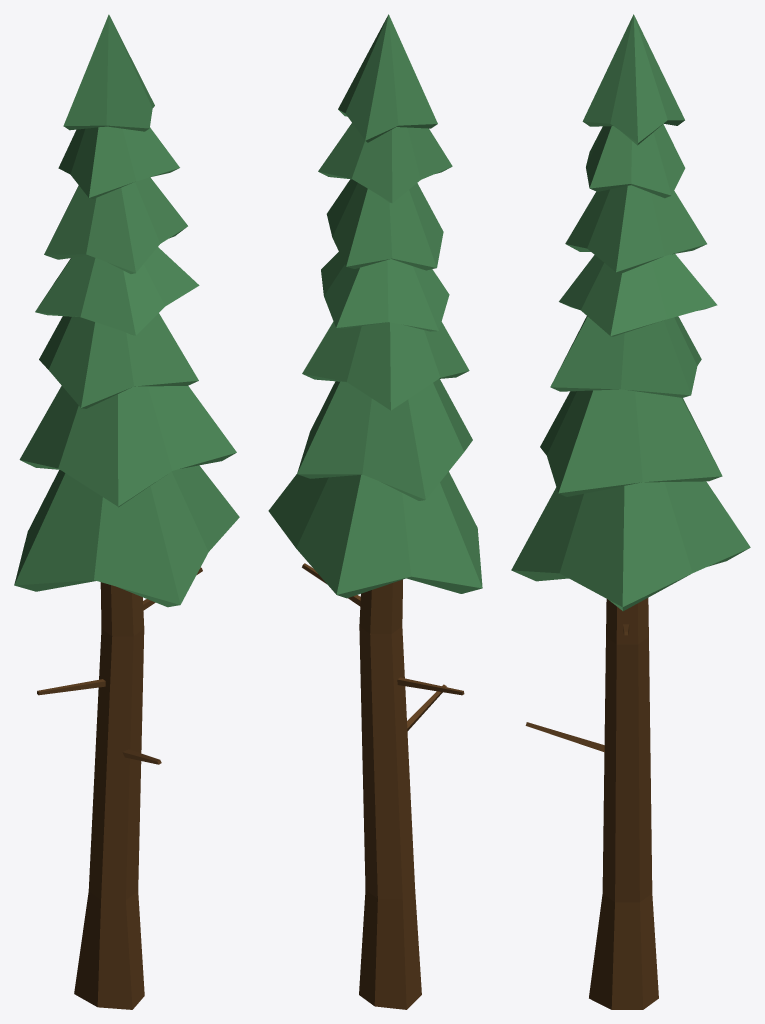
The model's file is tree1.glb.
3 renders of one model, left to right at view 1: azimuth 30°, elevation 25°; view 2: azimuth 150°, elevation 25°; view 3: azimuth 270°, elevation 25°, orthographic.
Visible parts, largest first — view 1: Tree5_3; view 2: Tree5_3; view 3: Tree5_3.
Part boxes in pixels (bbox=[...]): Tree5_3: bbox=[14, 14, 239, 1009]; Tree5_3: bbox=[268, 14, 482, 1009]; Tree5_3: bbox=[511, 14, 750, 1009].
Bounding box in the file's own units: 1.92 × 8.2 × 1.81.
